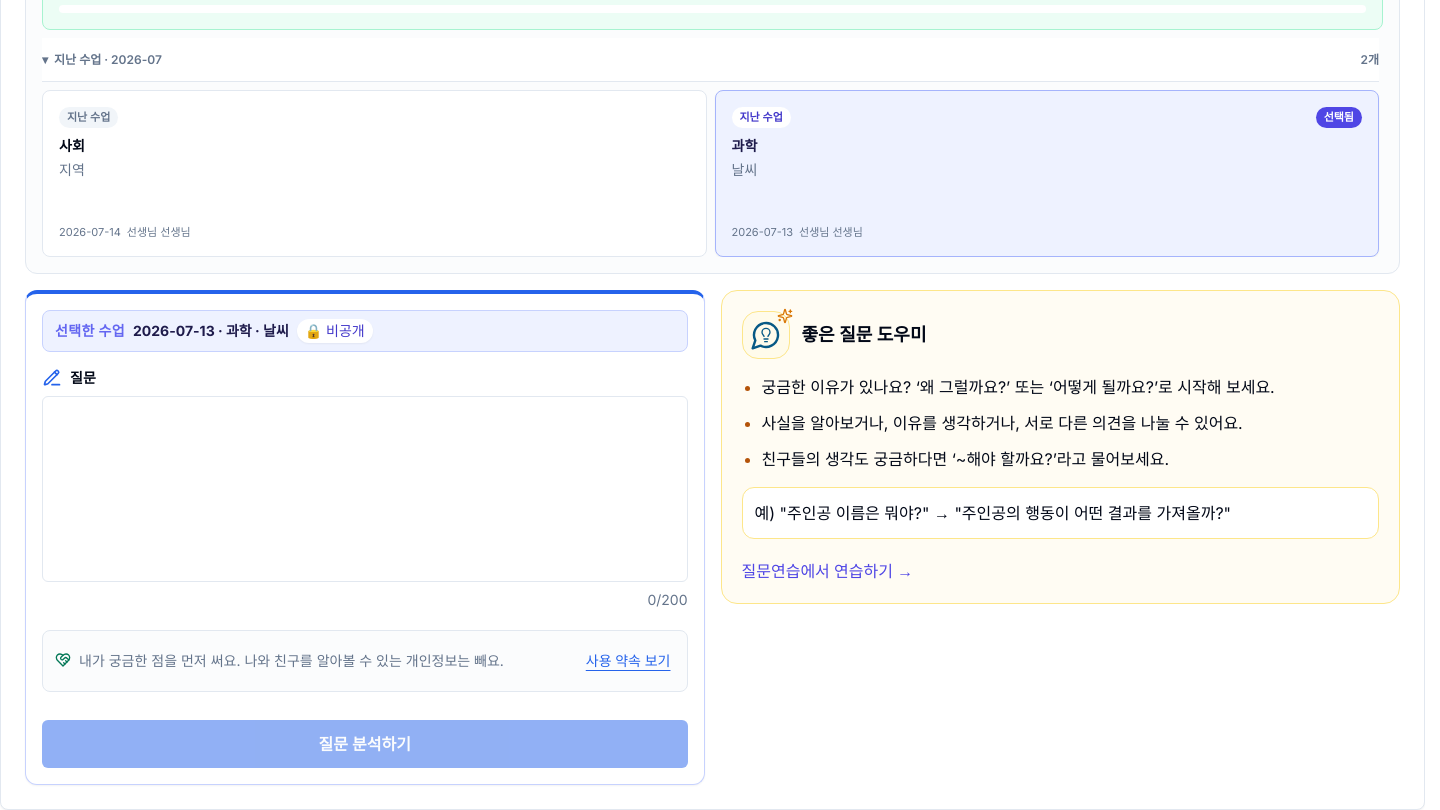
학생 질문 분석 결과 › 분석 요청 뒤 본문을 고치면 늦게 온 결과를 요청 당시 본문과 묶는다
The width and height of the screenshot is (1440, 810).
(page scrolled)
In the text box labelled "질문": (365, 489) left=42, top=396, right=688, bottom=582, type "처음 분석을 요청한 질문입니다"
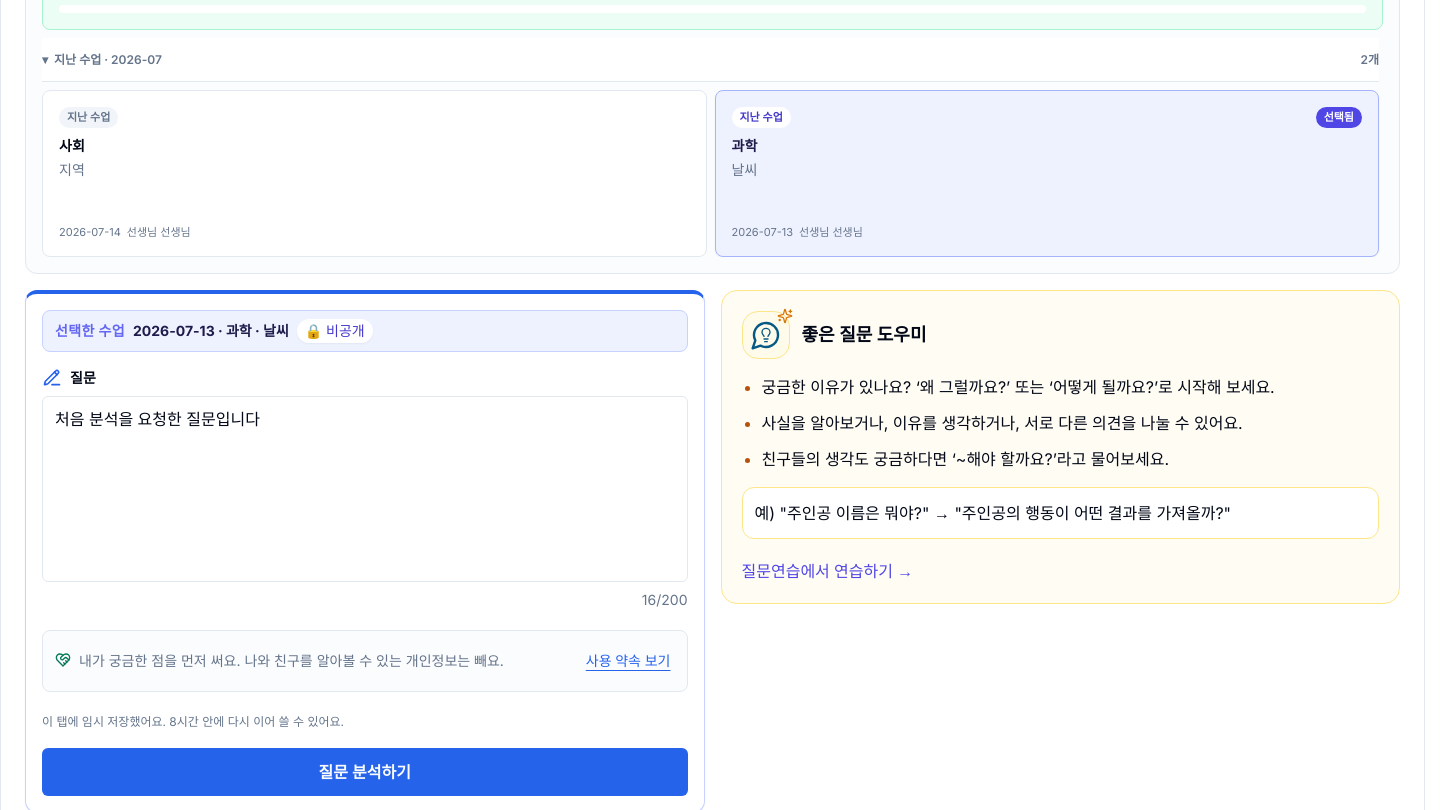
expect the button "질문 분석하기" is enabled: met
Click the button "질문 분석하기": click(365, 772) left=42, top=748, right=688, bottom=796
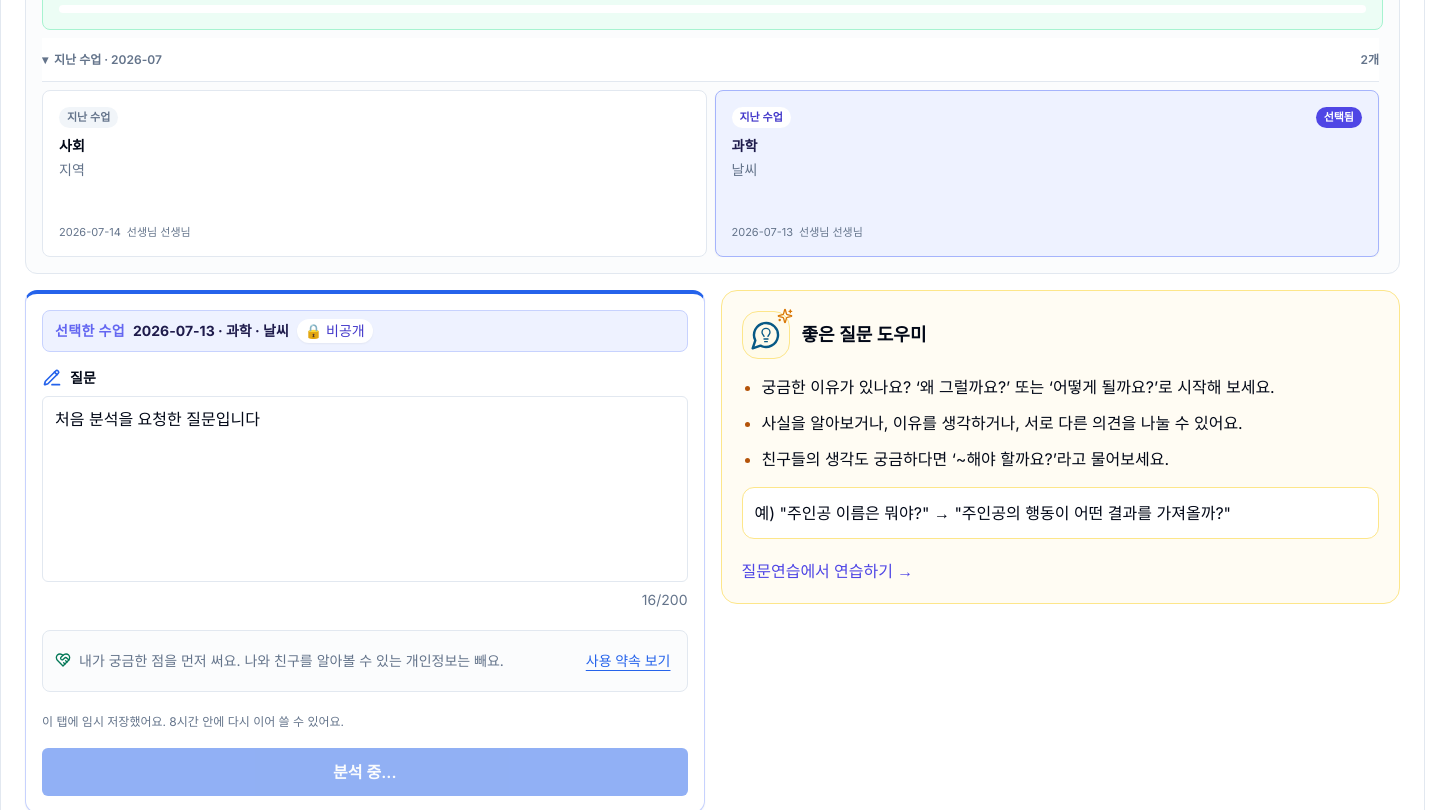
Replace the text in the text box labelled "질문" with "요청 뒤에 고친 질문입니다": (365, 489) left=42, top=396, right=688, bottom=582
(page scrolled)
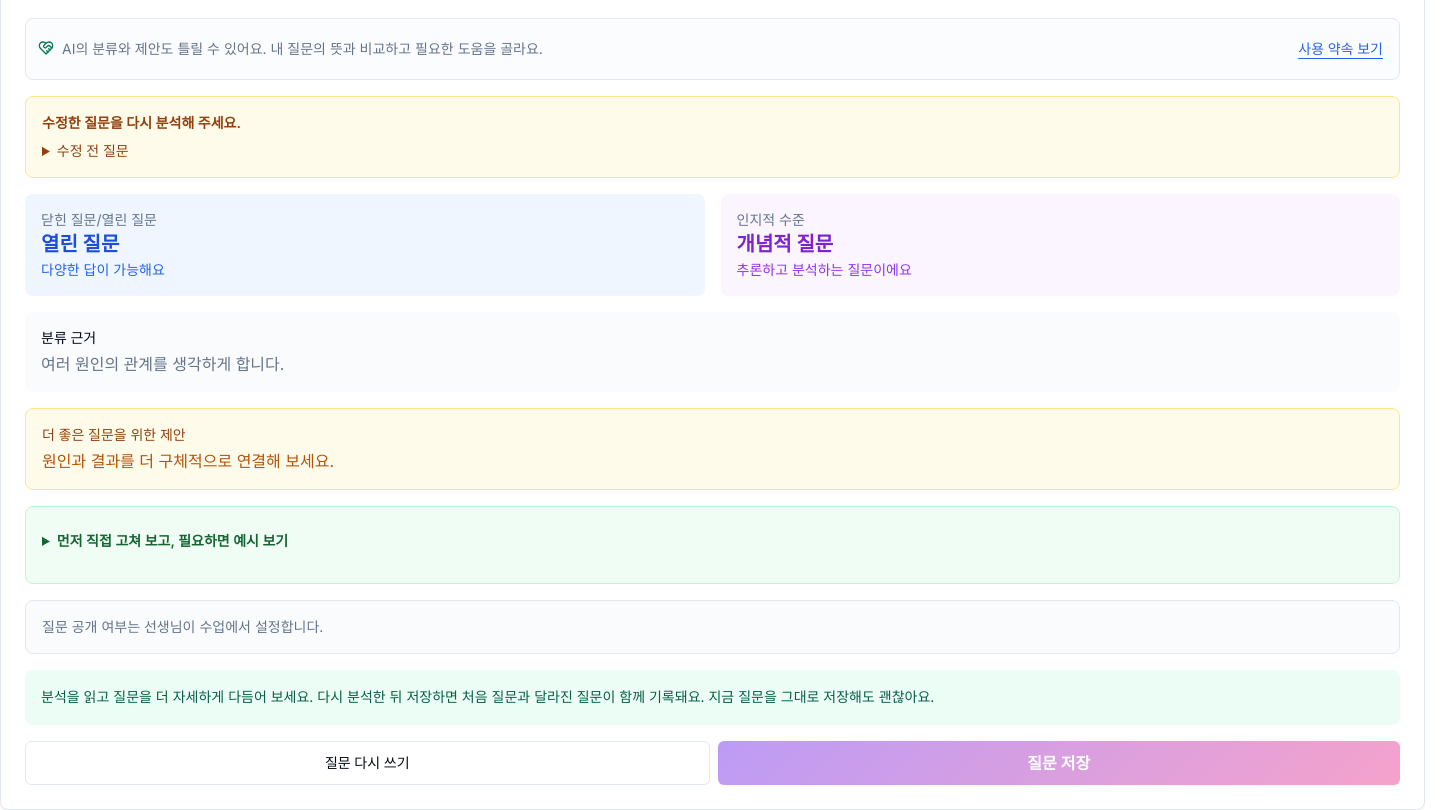
expect the text "수정한 질문을 다시 분석해 주세요." is shown: met, box left=42, top=114, right=241, bottom=131
expect the button "질문 저장" is disabled: met, box left=718, top=741, right=1400, bottom=785
